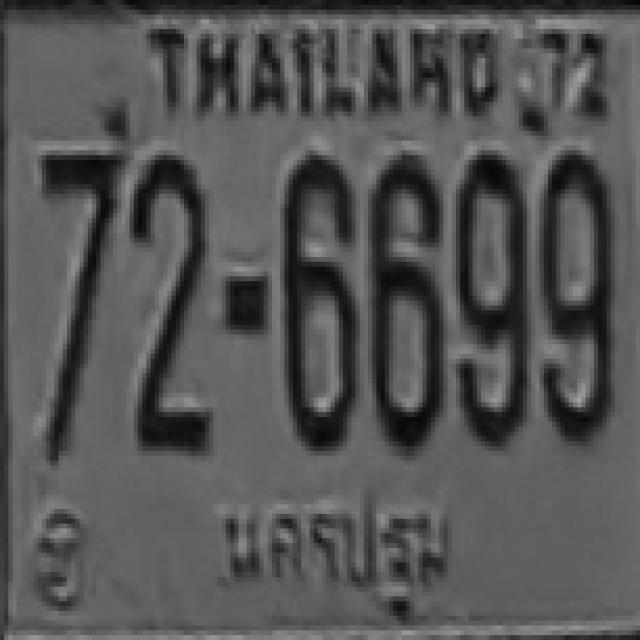0: (535, 146, 611, 334), (452, 148, 523, 332)
2: (132, 231, 207, 448)
7: (40, 150, 119, 315)
9: (452, 180, 527, 442), (452, 209, 527, 441), (537, 211, 613, 439)
NakhonPathom: (207, 485, 461, 623)
